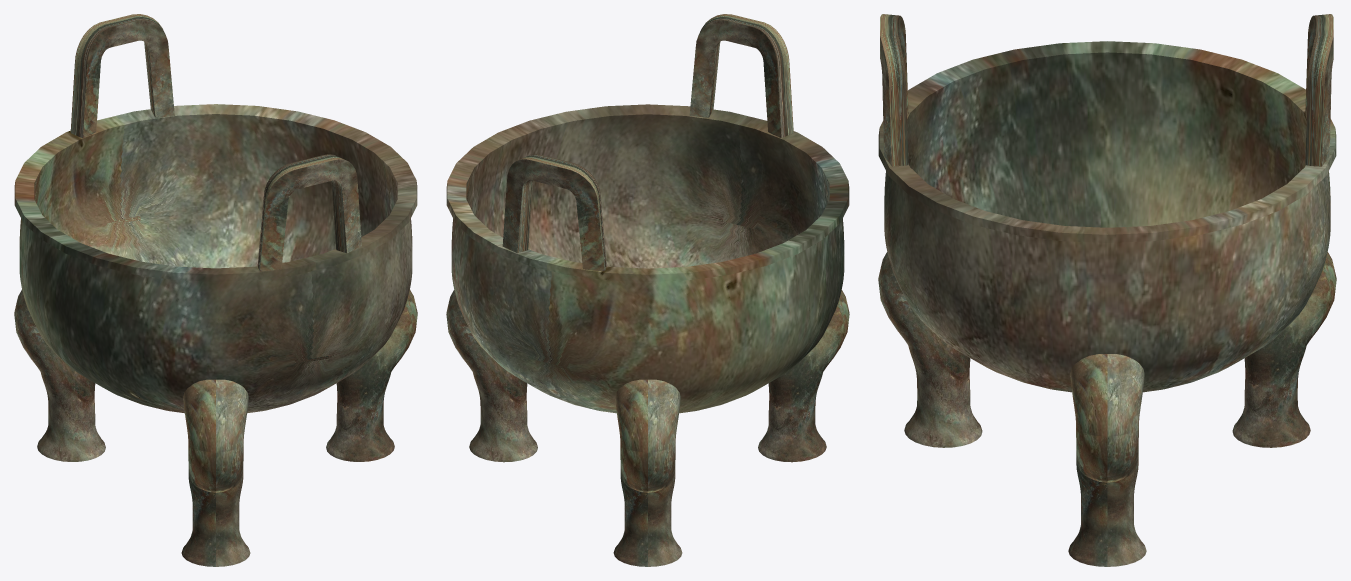
File: QingTongDing.FBX
3 renders of one model, left to right at view 1: azimuth 30°, elevation 25°; view 2: azimuth 150°, elevation 25°; view 3: azimuth 270°, elevation 25°, orthographic. The views are drawn at different scales.
Visible parts, largest first — view 1: Line179034, Loft51, Loft50, Loft49, Rectangle302, Rectangle303; view 2: Line179034, Loft50, Loft51, Loft49, Rectangle303, Rectangle302; view 3: Line179034, Loft49, Loft50, Loft51, Rectangle302, Rectangle303.
Boxes of the visible parts, left/top/right/bottom form: Line179034: left=14, top=104, right=417, bottom=413; Loft51: left=181, top=379, right=250, bottom=566; Loft50: left=14, top=289, right=105, bottom=461; Loft49: left=326, top=289, right=417, bottom=461; Rectangle302: left=70, top=14, right=174, bottom=137; Rectangle303: left=257, top=154, right=361, bottom=271; Line179034: left=446, top=104, right=849, bottom=413; Loft50: left=613, top=379, right=682, bottom=566; Loft51: left=758, top=290, right=849, bottom=462; Loft49: left=446, top=290, right=537, bottom=462; Rectangle303: left=689, top=14, right=793, bottom=137; Rectangle302: left=502, top=154, right=606, bottom=271; Line179034: left=878, top=41, right=1336, bottom=392; Loft49: left=1068, top=354, right=1146, bottom=566; Loft50: left=1232, top=252, right=1336, bottom=447; Loft51: left=878, top=252, right=982, bottom=447; Rectangle302: left=1305, top=14, right=1333, bottom=166; Rectangle303: left=880, top=14, right=908, bottom=166.
Bounding box in the file's own units: 158 × 158 × 148.
